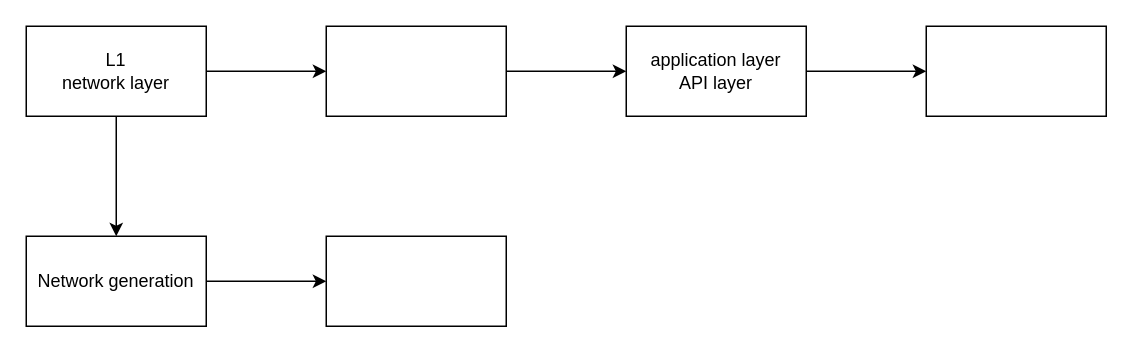
The diagram is 1133 pixels wide and 353 high, and some of its shapes have lost their labels. The shapes that lost their labels are listed below. From the top down, each one's centre as x and y in pixels, then its label:
point (415, 70): chaincode layer smart conract layer logic layer
point (1015, 70): UI layer frontend
